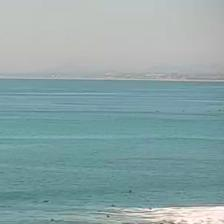surfer: (43, 199, 49, 203), (105, 215, 110, 218), (97, 209, 102, 212), (50, 219, 55, 222), (111, 204, 115, 207), (129, 190, 132, 193)
